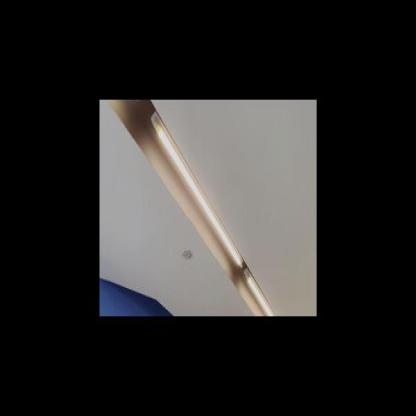light_on: (148, 109, 244, 268), (244, 268, 278, 316)
